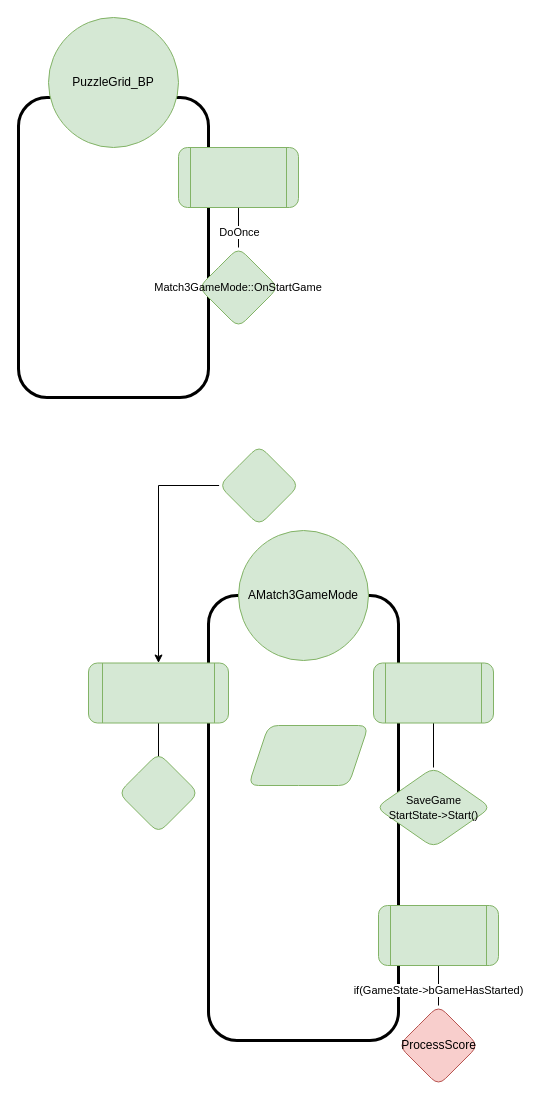
The diagram is 540 pixels wide and 1103 high, and some of its shapes have lost their labels. Each missing label, with the box of its shape:
BurstEnd: (178, 146, 298, 208)
OnStartGame: (372, 662, 494, 723)
UpdateGameState: (378, 904, 498, 966)
